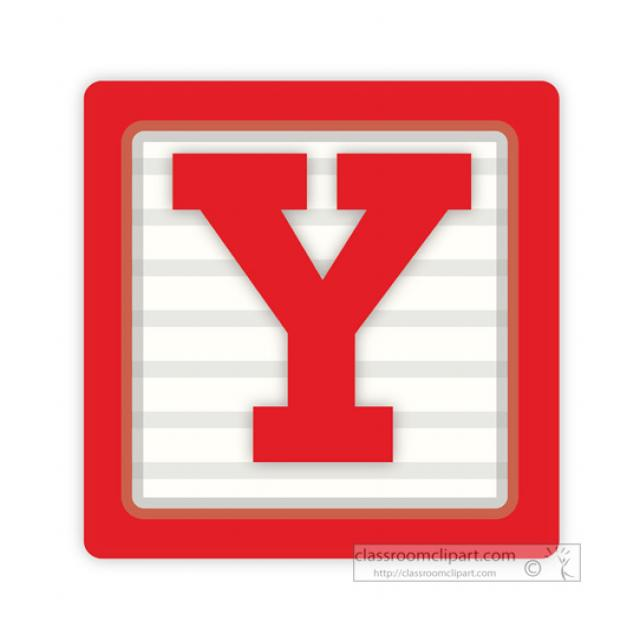Y: (154, 136, 491, 492)
